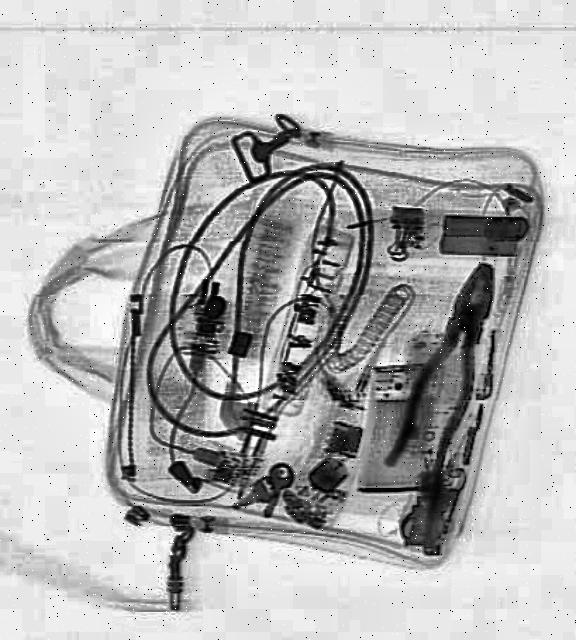Pliers: (381, 253, 515, 482)
